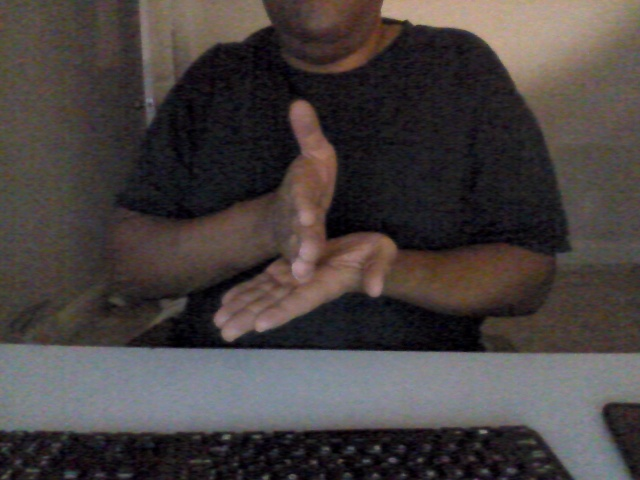stop: (207, 95, 398, 348)
